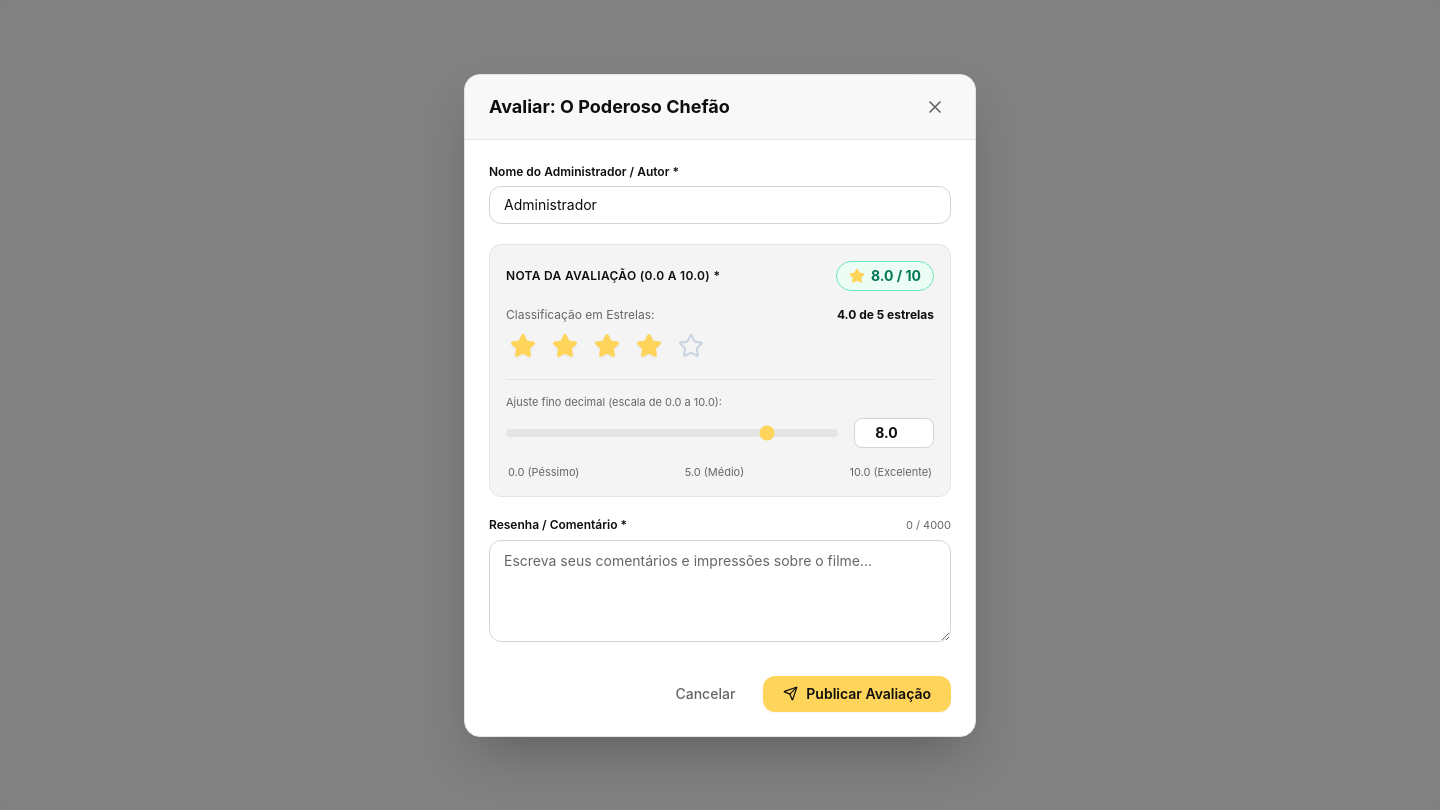
ReviewModal › deve atualizar a nota ao clicar em uma estrela do seletor
// Clica no botão de 5 estrelas
Click the button named "5 estrelas".
click(691, 346)  # box top-left (674, 328), bottom-right (708, 362)
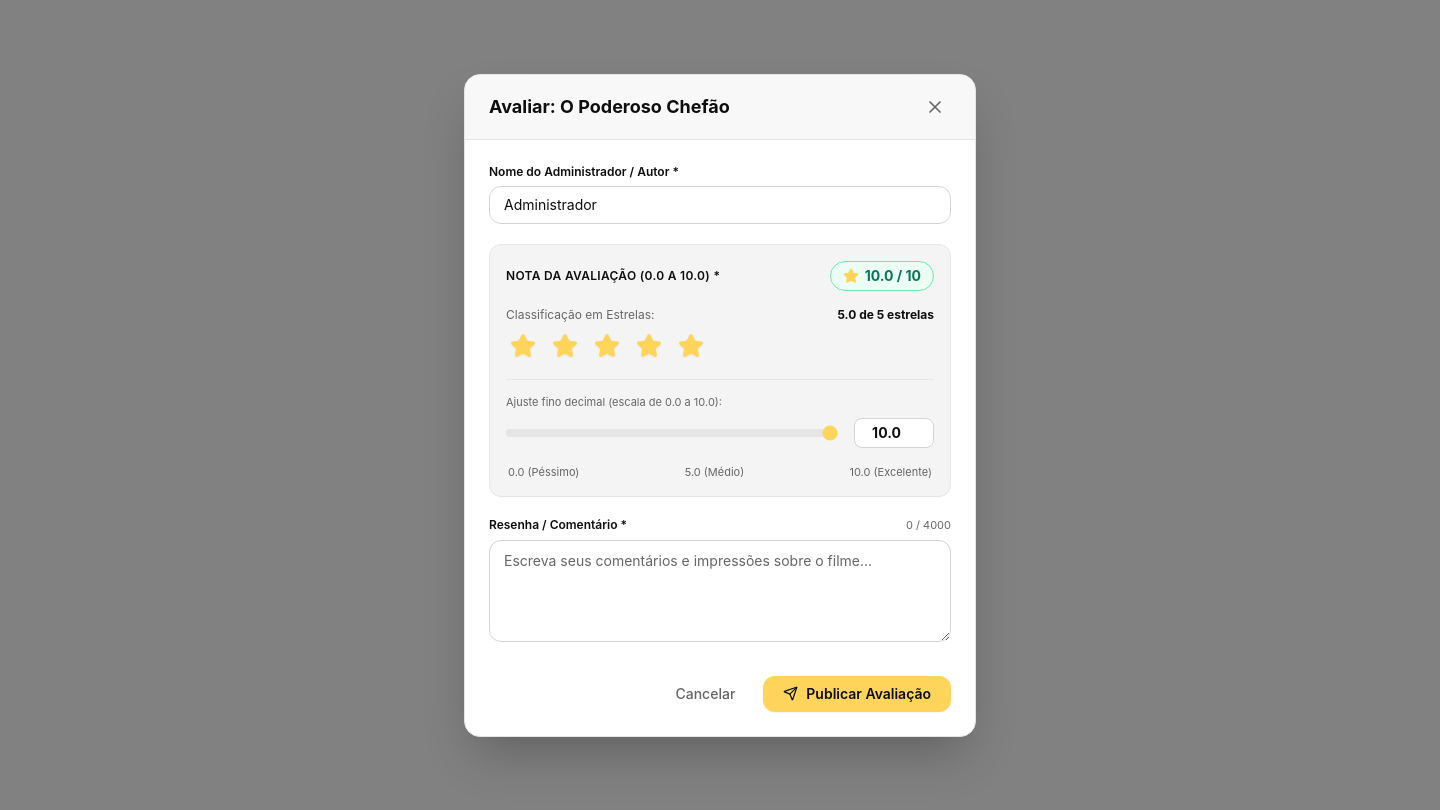
Check: the text "10.0 / 10" is shown, box top-left (865, 266), bottom-right (921, 286)
Check: the text "5.0 de 5 estrelas" is shown, box top-left (837, 306), bottom-right (934, 322)
